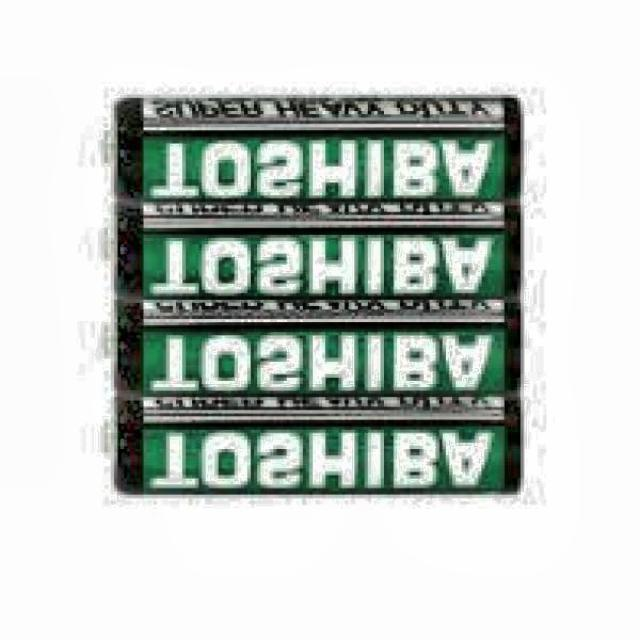battery: (101, 93, 523, 200), (102, 393, 527, 498), (101, 298, 525, 394)
